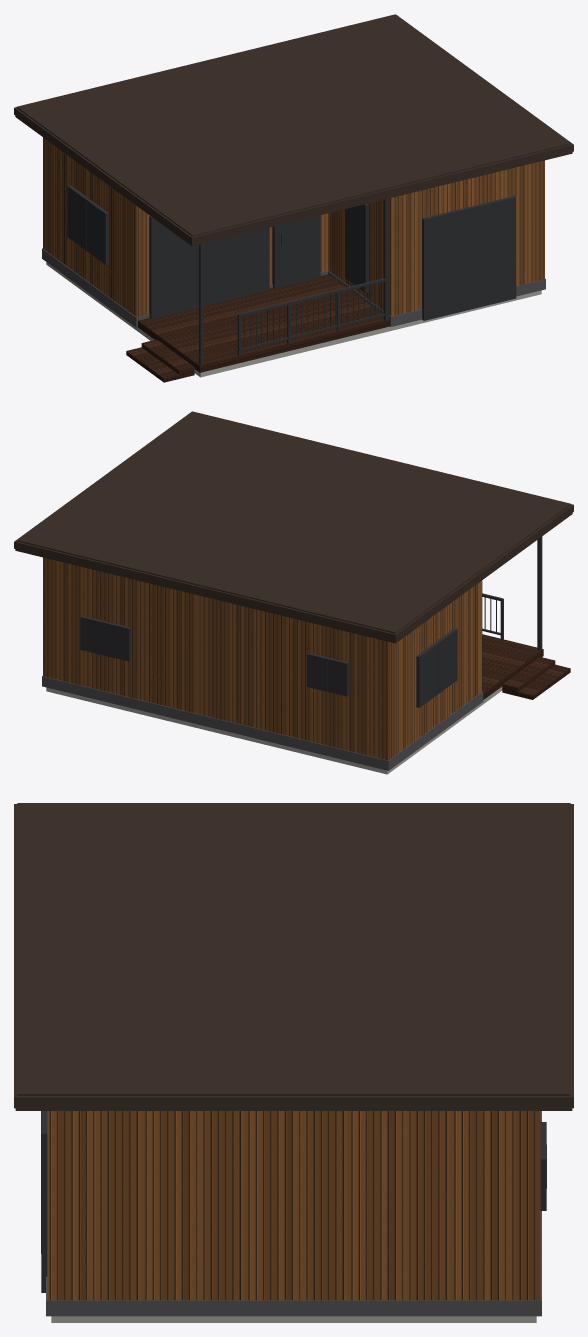
Rendered from gocheonri-a.glb.
3 renders of one model, top to bottom at view 1: azimuth 30°, elevation 25°; view 2: azimuth 150°, elevation 25°; view 3: azimuth 270°, elevation 25°, orthographic. The views are drawn at different scales.
Visible parts, largest first — view 1: 지붕_상판, 벽_A동측, 포치_데크, 벽_B좌후면, 창_전면이중_fr, 폴딩_fr, 지붕_후레싱, 문_fr, 창_좌측_fr, 기초, 창_포치픽스_fr, 지붕판 (+7 smaller); view 2: 지붕_상판, 벽_B좌후면, 벽_A동측, 지붕_후레싱, 스커트_B, 창_좌측_fr, 포치_데크, 기초, 창_배면주방_fr, 스커트_A, 창_배면좌_fr, 지붕판 (+3 smaller); view 3: 지붕_상판, 벽_A동측, 지붕_후레싱, 스커트_A, 기초, 지붕판, 창_전면이중_fr.
Boxes of the visible parts, x1=… form: 지붕_상판: x1=16, y1=14, x2=571, y2=236; 벽_A동측: x1=328, y1=160, x2=544, y2=316; 포치_데크: x1=138, y1=274, x2=389, y2=372; 벽_B좌후면: x1=43, y1=137, x2=328, y2=317; 창_전면이중_fr: x1=422, y1=196, x2=516, y2=320; 폴딩_fr: x1=149, y1=216, x2=269, y2=318; 지붕_후레싱: x1=14, y1=14, x2=573, y2=244; 문_fr: x1=272, y1=215, x2=320, y2=288; 창_좌측_fr: x1=67, y1=185, x2=108, y2=264; 기초: x1=46, y1=262, x2=541, y2=377; 창_포치픽스_fr: x1=345, y1=204, x2=368, y2=293; 지붕판: x1=15, y1=116, x2=572, y2=246; 지붕_상판: x1=16, y1=411, x2=571, y2=633; 벽_B좌후면: x1=196, y1=580, x2=482, y2=760; 벽_A동측: x1=43, y1=557, x2=196, y2=713; 지붕_후레싱: x1=14, y1=412, x2=573, y2=641; 스커트_B: x1=195, y1=691, x2=483, y2=770; 창_좌측_fr: x1=416, y1=628, x2=457, y2=707; 포치_데크: x1=482, y1=634, x2=543, y2=699; 기초: x1=46, y1=686, x2=502, y2=774; 창_배면주방_fr: x1=80, y1=615, x2=130, y2=661; 스커트_A: x1=42, y1=676, x2=196, y2=723; 창_배면좌_fr: x1=307, y1=653, x2=348, y2=696; 지붕판: x1=15, y1=513, x2=572, y2=643; 지붕_상판: x1=17, y1=803, x2=570, y2=1095; 벽_A동측: x1=47, y1=1111, x2=540, y2=1300; 지붕_후레싱: x1=14, y1=804, x2=573, y2=1108; 스커트_A: x1=46, y1=1211, x2=541, y2=1316; 기초: x1=51, y1=1316, x2=536, y2=1322; 지붕판: x1=15, y1=1108, x2=572, y2=1110; 창_전면이중_fr: x1=41, y1=1111, x2=47, y2=1292.
Size of the model in its own units: 9.05 by 3.39 by 7.07.
9 materials, 3 textured.
